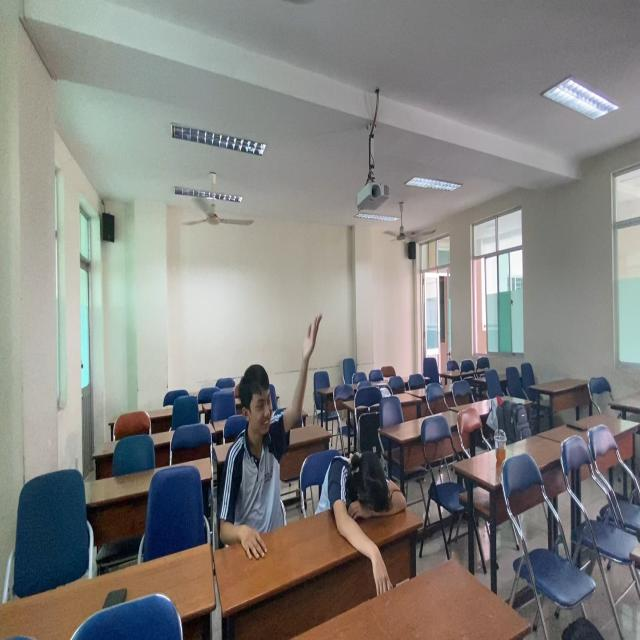raise_hand: (212, 305, 330, 549)
sleep: (313, 447, 416, 562)
